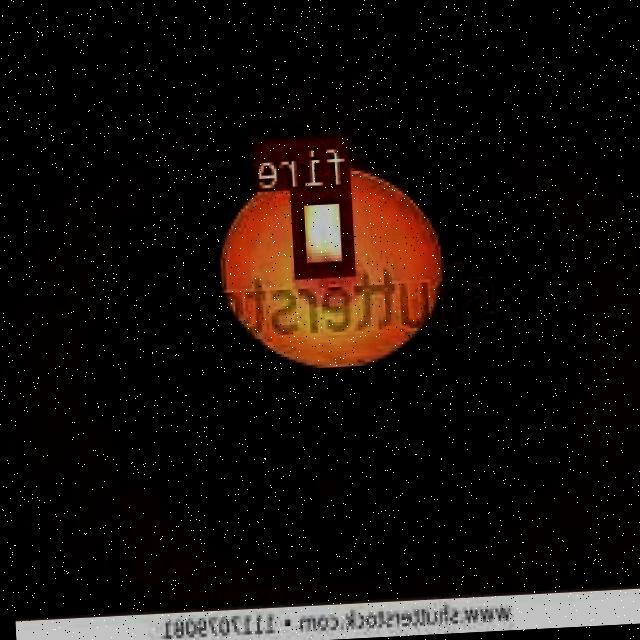fire: (293, 186, 358, 275)
